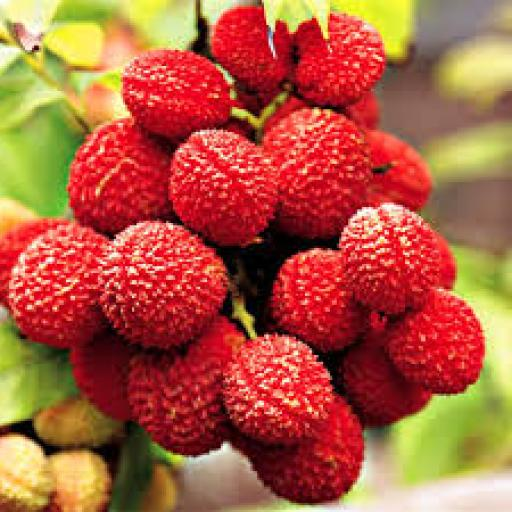lychee: (100, 221, 226, 348), (127, 317, 242, 455), (261, 110, 369, 238), (6, 224, 108, 348), (168, 130, 276, 245), (250, 396, 363, 502), (223, 335, 333, 443), (68, 119, 171, 234), (339, 203, 440, 314), (386, 289, 483, 393), (122, 51, 231, 141), (270, 249, 365, 352), (334, 335, 429, 427), (293, 14, 385, 106), (211, 7, 290, 91), (0, 219, 67, 304), (70, 330, 133, 420), (366, 130, 431, 211), (34, 396, 124, 448), (0, 435, 53, 511), (47, 451, 110, 511)
